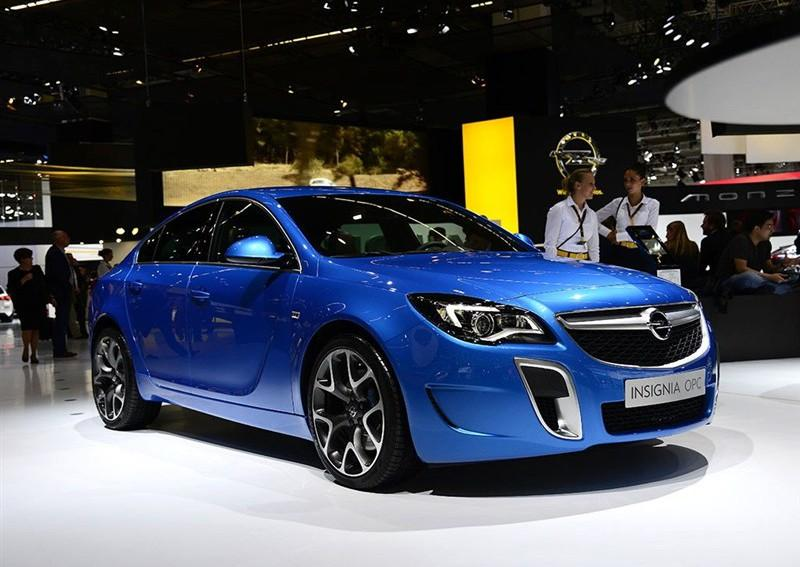Wagon: (90, 185, 721, 494)
